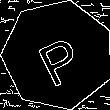P_NW: (30, 25, 86, 86)
